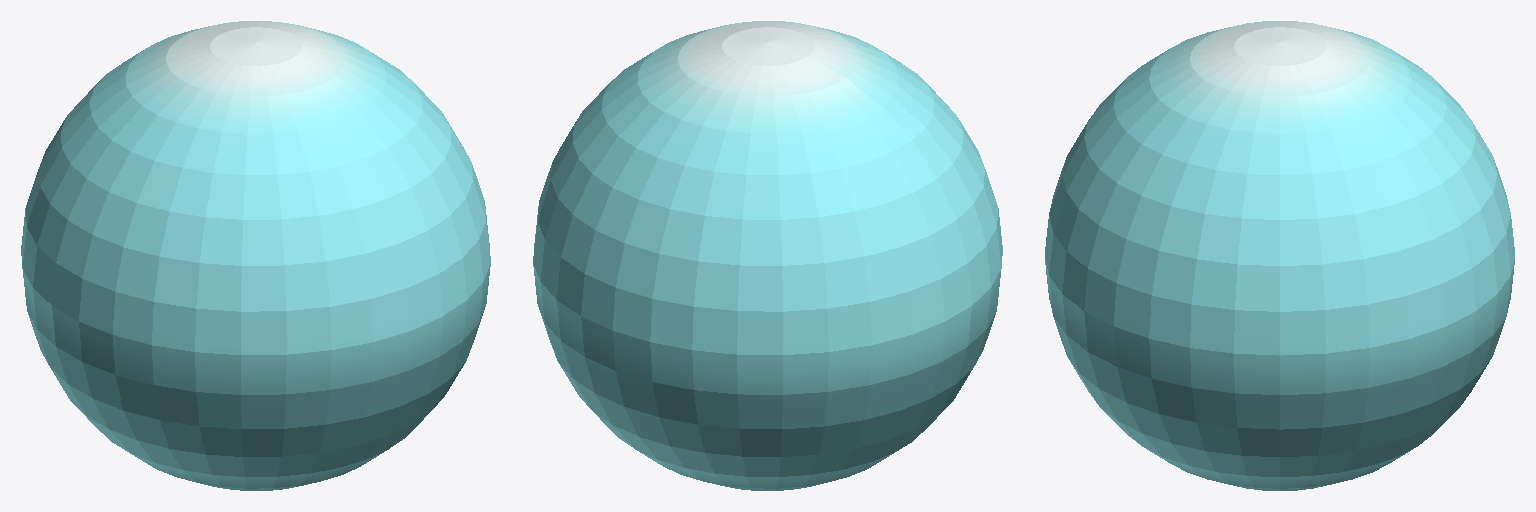
The picture shows the model from 3 angles: view 1: azimuth 30°, elevation 25°; view 2: azimuth 150°, elevation 25°; view 3: azimuth 270°, elevation 25°; orthographic projection.
Visible parts, largest first — view 1: 球; view 2: 球; view 3: 球.
Part boxes in pixels (x1,y1,x2,y2): 球: (21,21,490,490); 球: (533,21,1002,490); 球: (1045,21,1514,490).
Size of the model in its own units: 2 by 2 by 2.
1 materials, 1 textured.